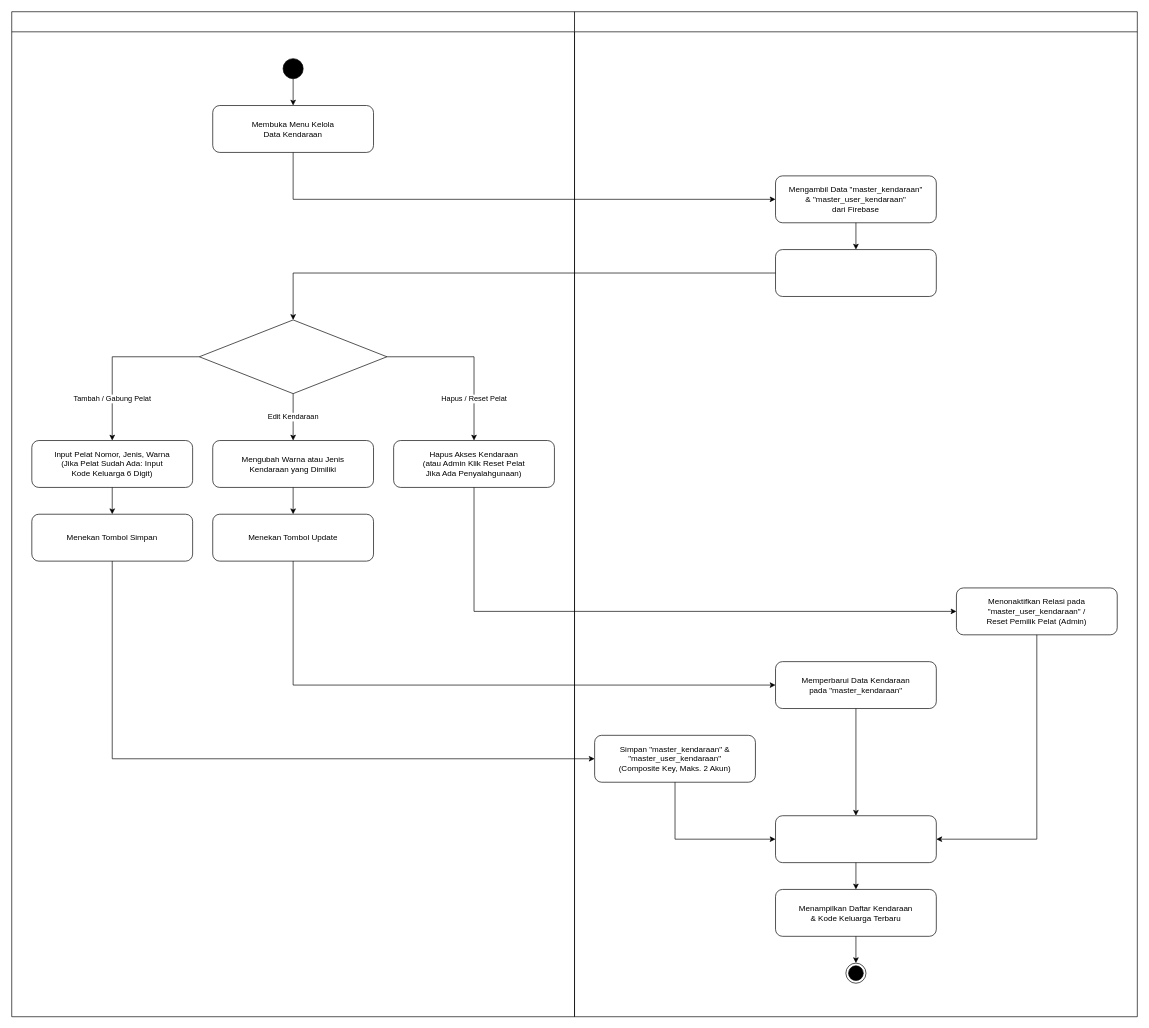
Image size: 1149x1028. Some labels were removed from this diagram. The shapes that lost their labels are listed below. From the top down, each one's box as (x1, y1, x2, y2) in pixels, then its label:
(775, 249, 936, 296): Menampilkan Daftar Kendaraan Terdaftar & Kode Keluarga (Bagi Pemilik Utama)
(199, 319, 387, 394): Pilih Aksi?
(11, 11, 575, 1017): Member / Admin
(574, 11, 1137, 1017): Sistem
(775, 815, 936, 863): Mencatat Aktivitas ke "log_aktivitas"
